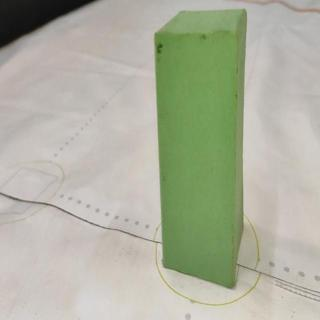greenbox: (155, 9, 242, 289)
